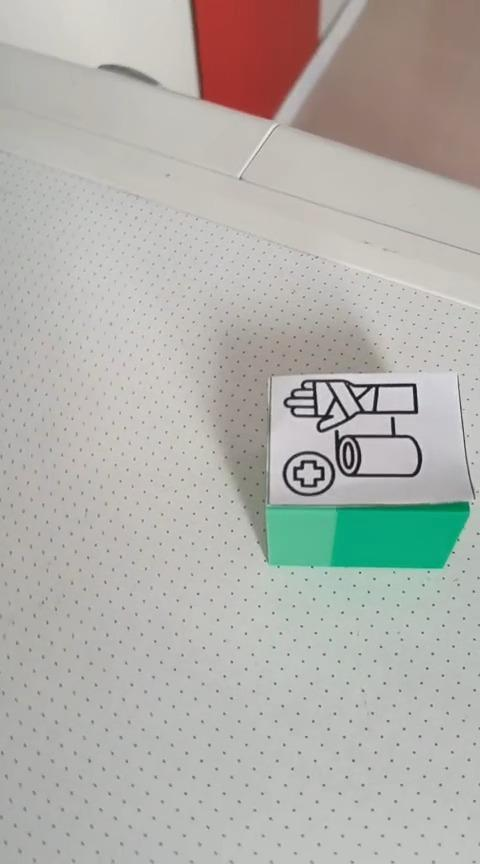Bandages: (265, 372, 472, 569)
